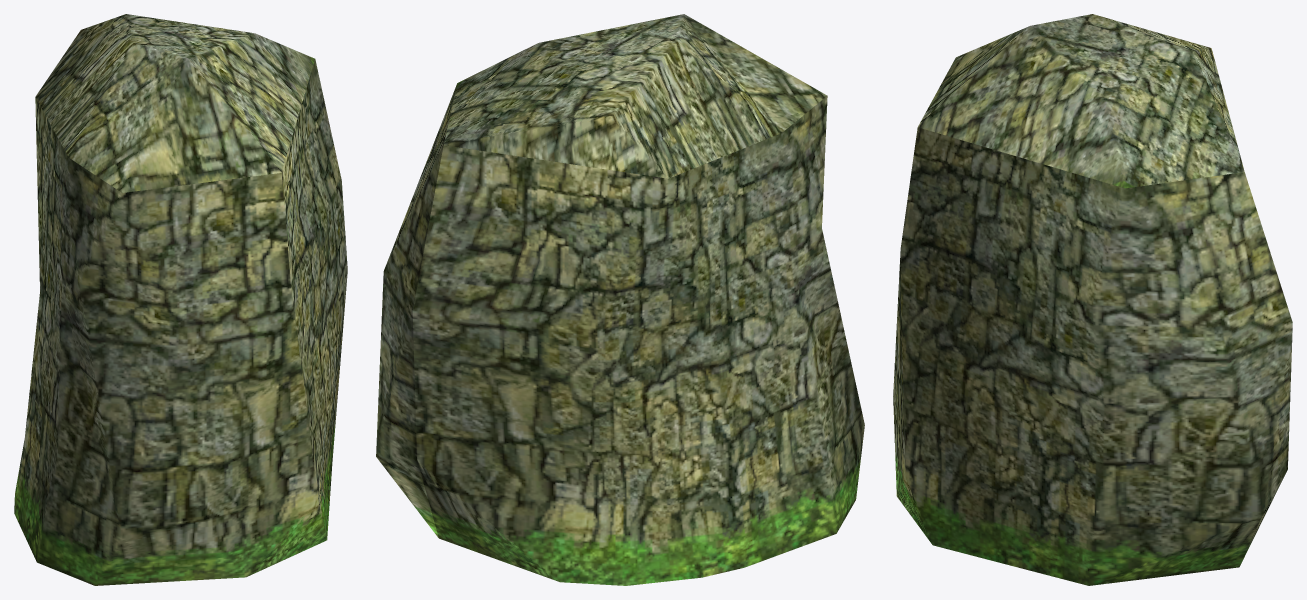
Rendered from rock12.glb.
3 renders of one model, left to right at view 1: azimuth 30°, elevation 25°; view 2: azimuth 150°, elevation 25°; view 3: azimuth 270°, elevation 25°, orthographic. The views are drawn at different scales.
Parts seen in each view (by area): view 1: rock12; view 2: rock12; view 3: rock12.
Boxes of the visible parts, <box> form: rock12: <box>14,14,347,585</box>; rock12: <box>376,14,864,585</box>; rock12: <box>893,14,1292,585</box>.
Bounding box in the file's own units: 7.16 × 9.21 × 7.03.
1 material, 1 textured.
